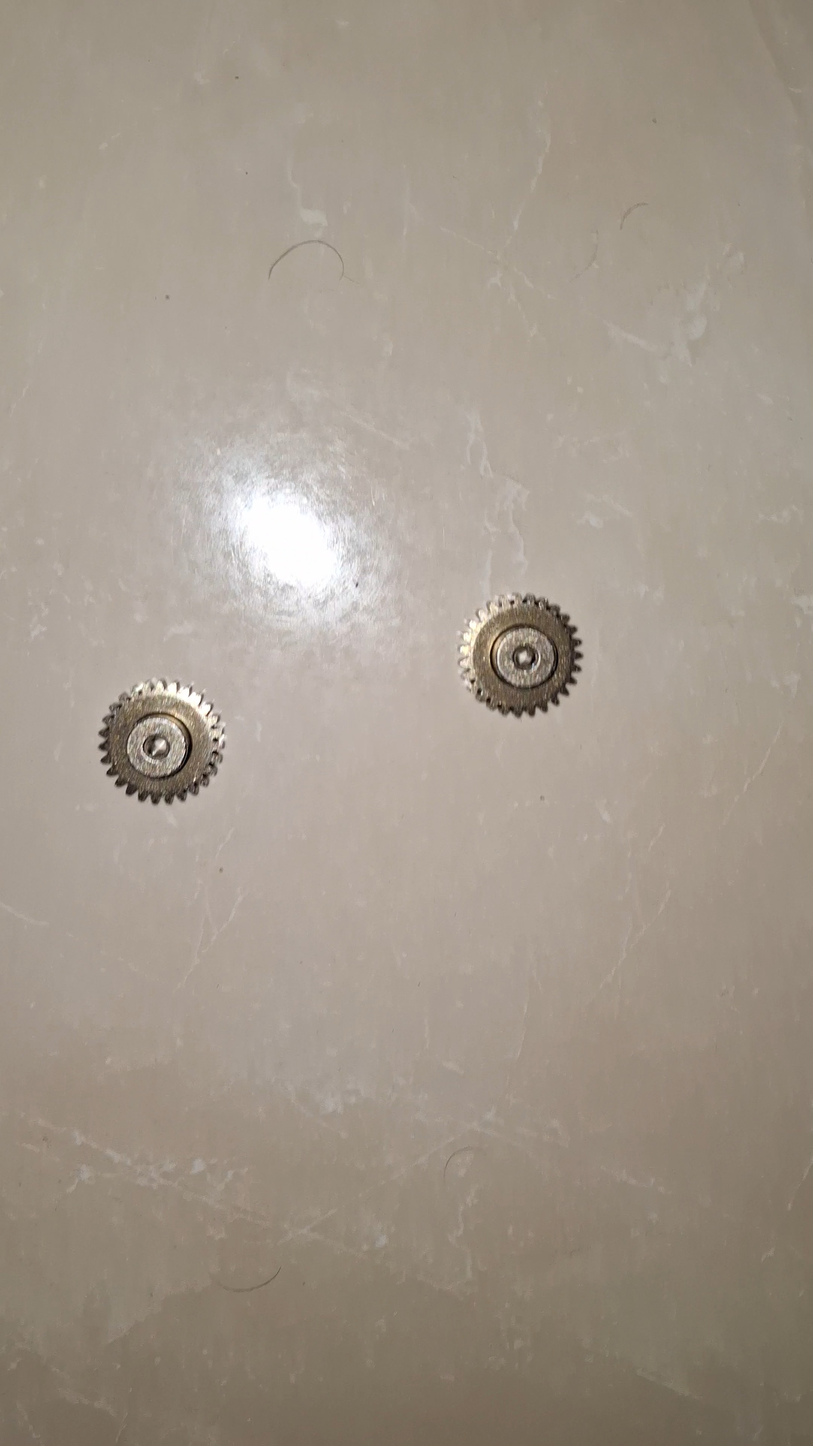spur gear: (100, 679, 225, 803), (460, 595, 581, 716)
